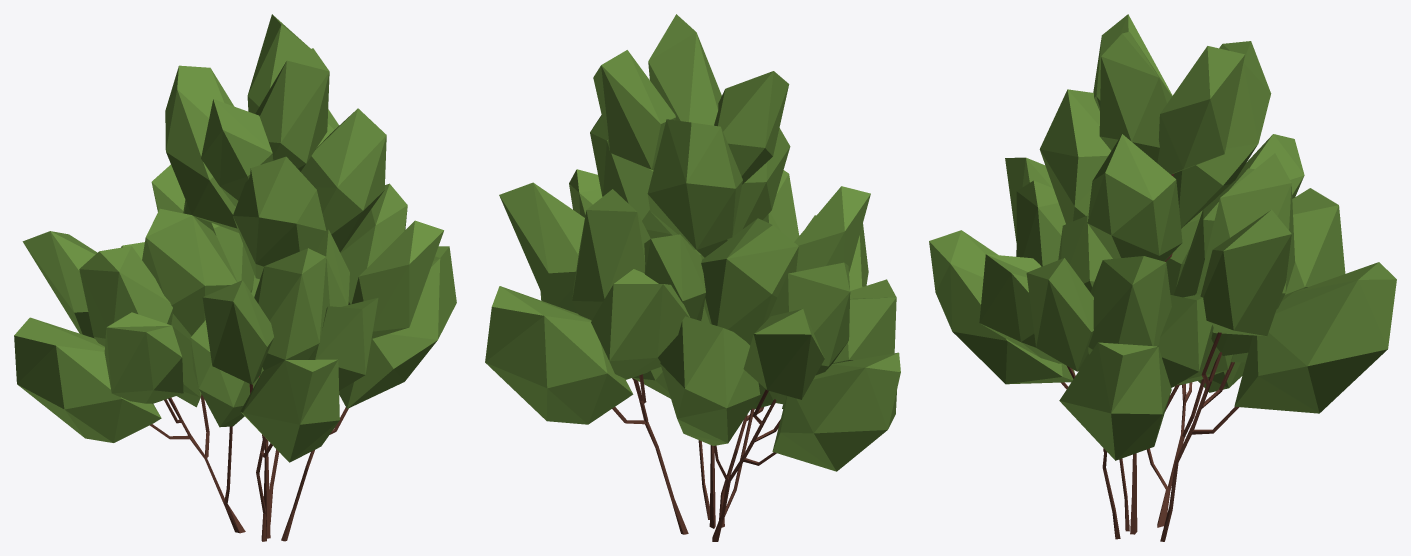
The model's file is mountain_ash_2.fbx.
3 renders of one model, left to right at view 1: azimuth 30°, elevation 25°; view 2: azimuth 150°, elevation 25°; view 3: azimuth 270°, elevation 25°, orthographic. The views are drawn at different scales.
Visible parts, largest first — view 1: mountain_ash_2; view 2: mountain_ash_2; view 3: mountain_ash_2.
Part boxes in pixels (x1,y1,x2,y2): mountain_ash_2: (14, 14, 456, 541); mountain_ash_2: (485, 14, 900, 541); mountain_ash_2: (929, 14, 1396, 541).
Bounding box in the file's own units: 271 × 315 × 257.
